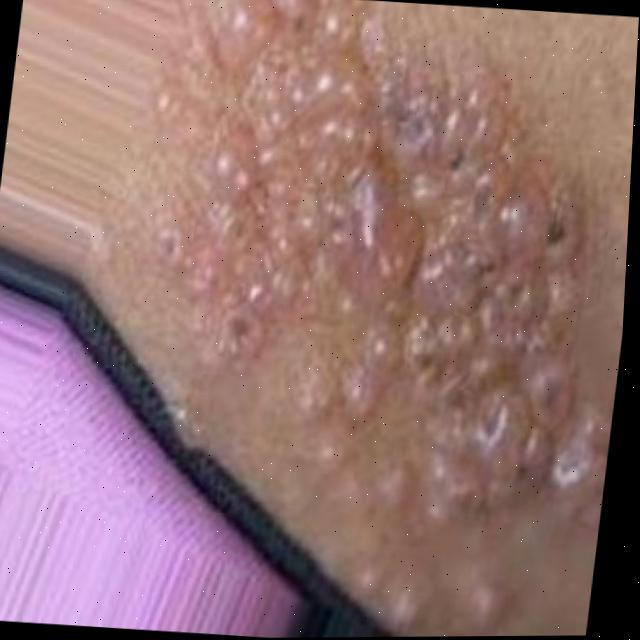Shingles: (141, 10, 639, 537)
